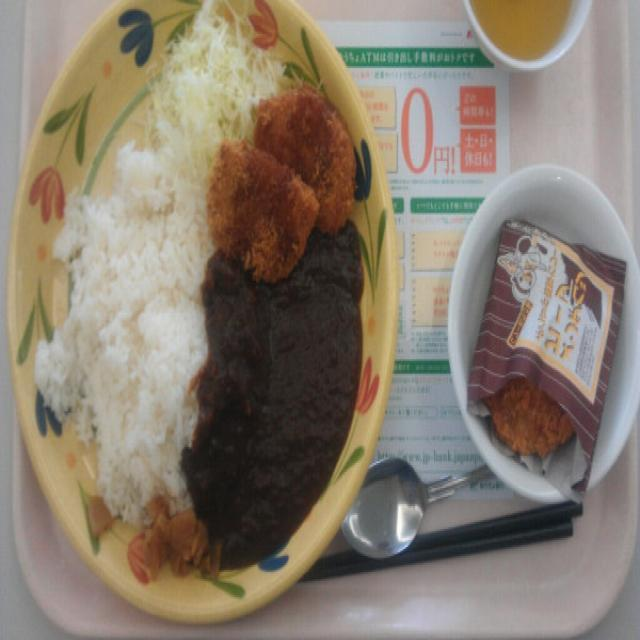Beef Curry: (68, 14, 223, 514)
